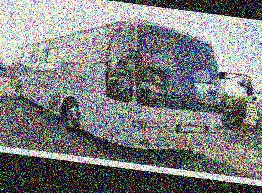bus: (5, 2, 241, 160)
